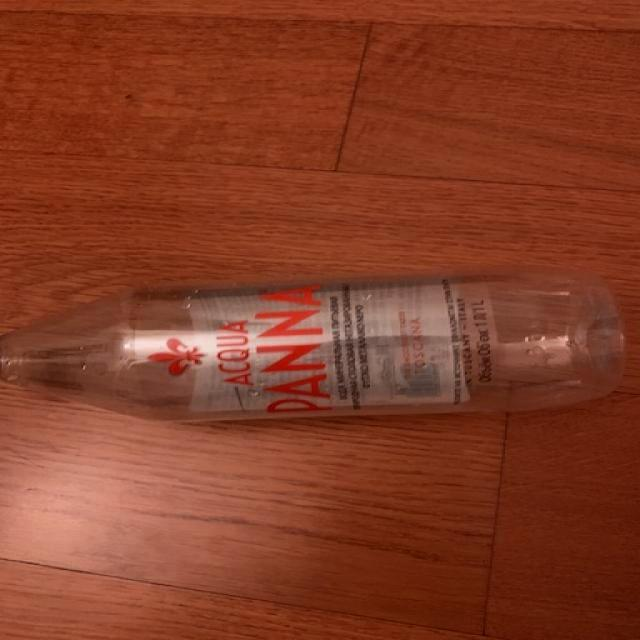bottle: (0, 270, 625, 425)
